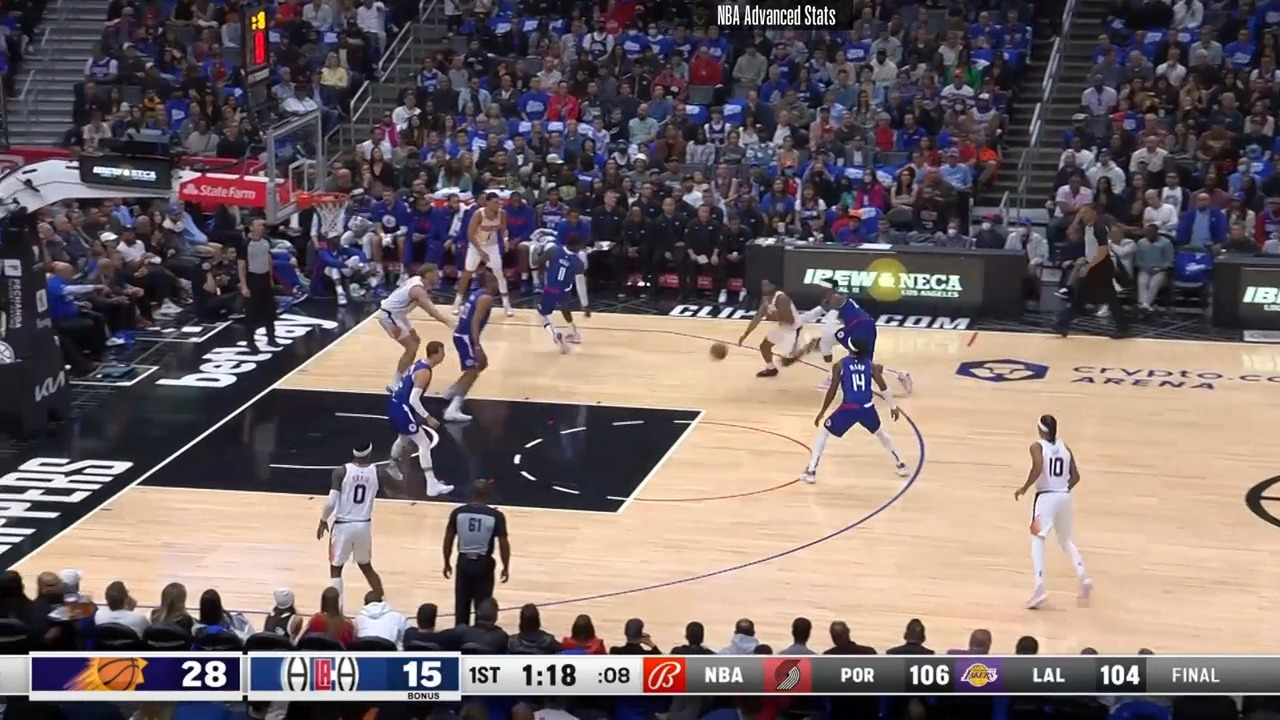net: (296, 188, 355, 238)
player: (802, 334, 910, 487), (1020, 409, 1099, 612), (314, 443, 397, 617), (801, 279, 915, 396), (438, 267, 505, 424), (375, 264, 454, 397), (385, 337, 448, 499), (452, 192, 515, 320), (533, 231, 588, 358), (741, 279, 807, 380)
referee: (434, 478, 508, 628), (1055, 203, 1133, 344), (238, 219, 287, 359)
